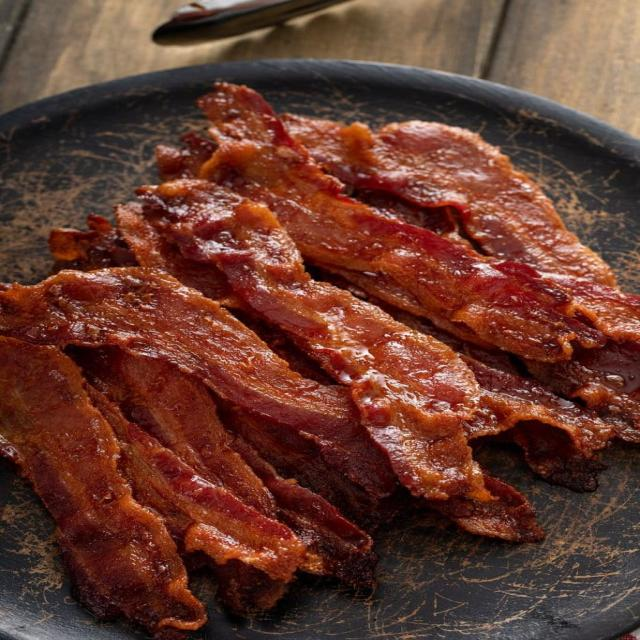Bacon: (0, 268, 395, 494), (202, 142, 605, 361), (210, 199, 493, 502), (0, 336, 206, 640), (283, 115, 615, 287), (101, 400, 305, 612), (75, 348, 275, 518)
